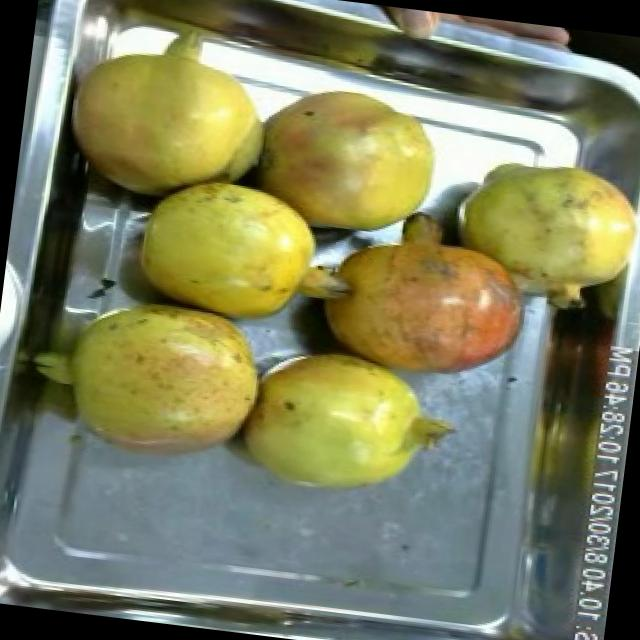fruit: (14, 273, 284, 480), (46, 11, 294, 221), (311, 202, 548, 400), (222, 328, 468, 518), (233, 64, 466, 261), (110, 152, 345, 344), (426, 128, 640, 335)
